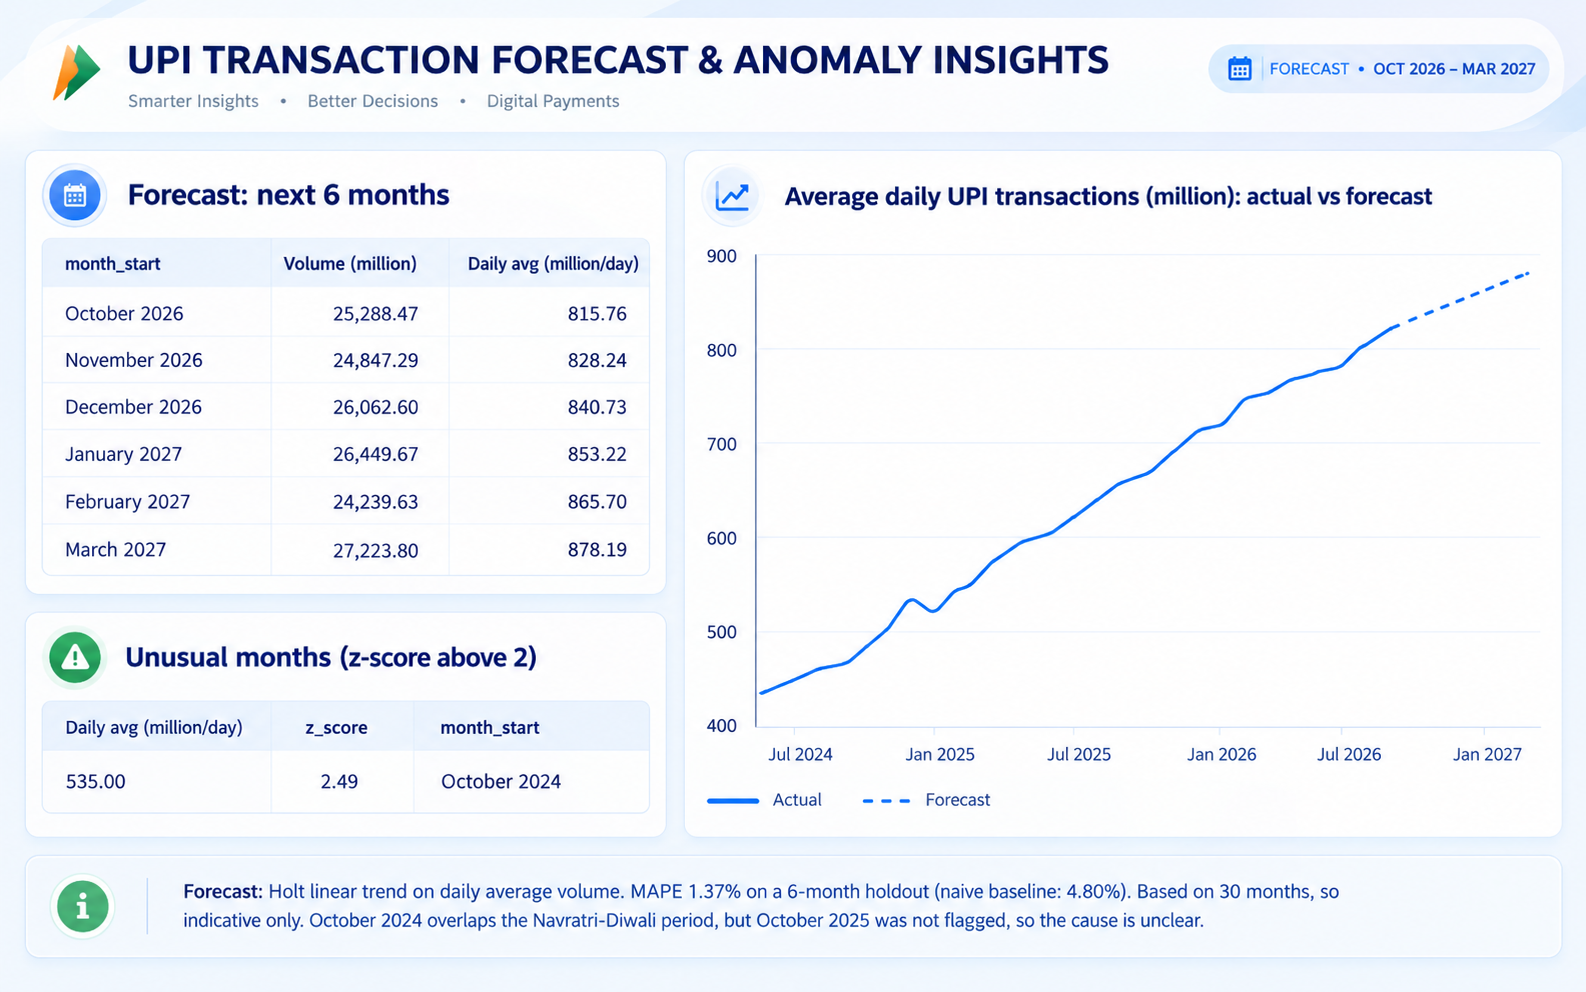

What the dashboard file says about the page in this screenshot:
{"tool":"powerbi","page":{"name":"Forecast and anomalies","canvas":[1920,1080],"ordinal":1},"visuals":[{"type":"tableEx","title":"Forecast: next 6 months","fields":{"Values":["dashboard_data.month_start","Sum(dashboard_data.volume_mn)","Sum(dashboard_data.daily_avg_mn)"]},"box":[80,110,556,344],"z":0},{"type":"tableEx","title":"Unusual months (z-score above 2)","fields":{"Values":["Sum(dashboard_data.daily_avg_mn)","Sum(dashboard_data.z_score)","dashboard_data.month_start"]},"box":[78,486,558,374],"z":1},{"type":"lineChart","title":"Average daily UPI transactions (million): actual vs forecast","fields":{"Category":["dashboard_data.month_start.Variation.Date Hierarchy.Year","dashboard_data.month_start.Variation.Date Hierarchy.Quarter","dashboard_data.month_start.Variation.Date Hierarchy.Month","dashboard_data.month_start.Variation.Date Hierarchy.Day"],"Series":["dashboard_data.type"],"Y":["Sum(dashboard_data.daily_avg_mn)"]},"box":[653.3,110,1075,750],"z":2},{"type":"textbox","box":[1738,110,182,750],"z":3},{"type":"textbox","box":[96.7,870,1640,180],"z":4}]}

Visuals, with their boxes on the page's 1920x1080 design canvas (x1, y1, x2, y2). These are canvas units, not pixel positions in the 1586x992 screenshot, which may show the page scaled, cropped or inside an application window:
"Forecast: next 6 months" tableEx: l=80, t=110, r=636, b=454
"Unusual months (z-score above 2)" tableEx: l=78, t=486, r=636, b=860
"Average daily UPI transactions (million): actual vs forecast" lineChart: l=653, t=110, r=1728, b=860
textbox: l=1738, t=110, r=1920, b=860
textbox: l=97, t=870, r=1737, b=1050
